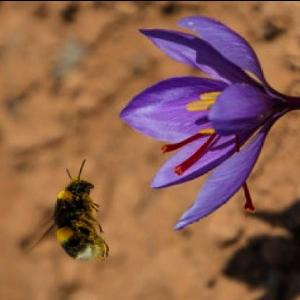Saffron: (123, 14, 300, 229)
